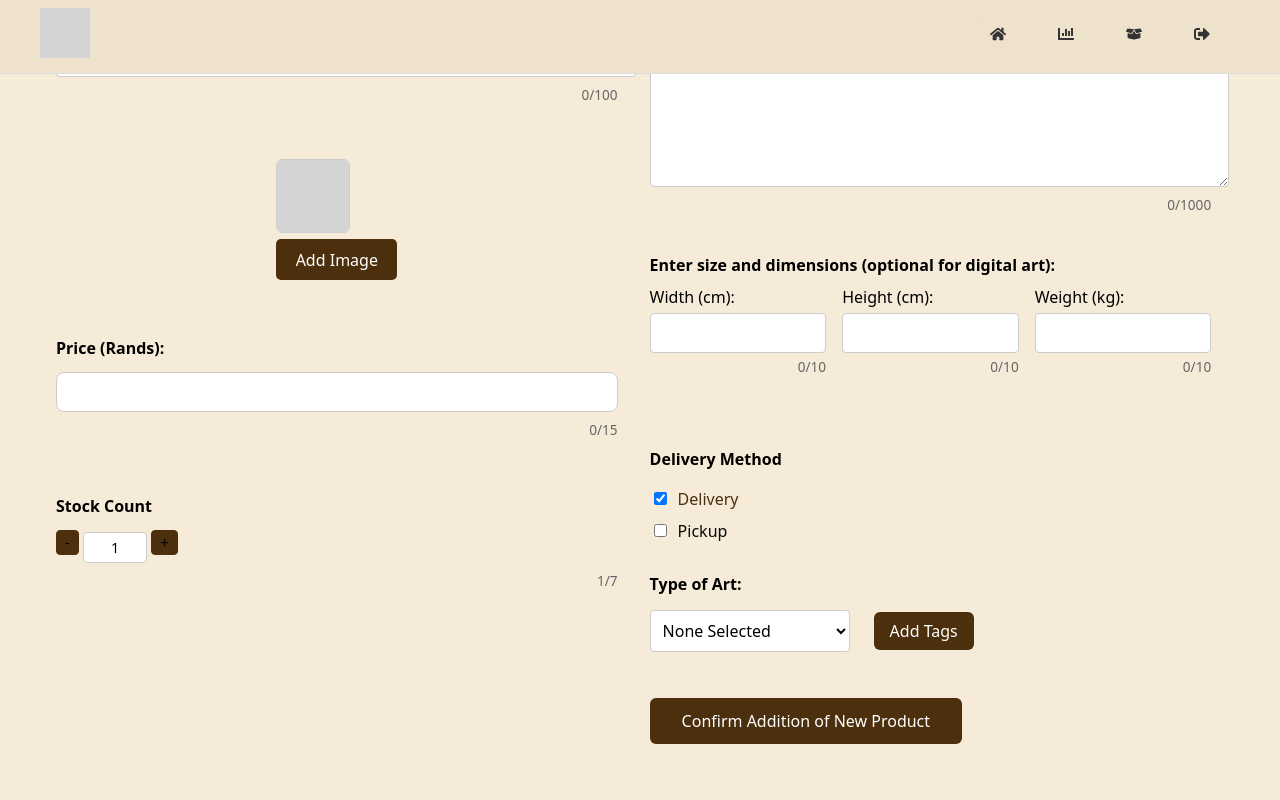
Scenario: AddProductPage Functional Tests › shows validation error popup on missing fields
(page scrolled)
Click the button "Confirm Addition of New Product" at (806, 721), box [650, 698, 962, 744]
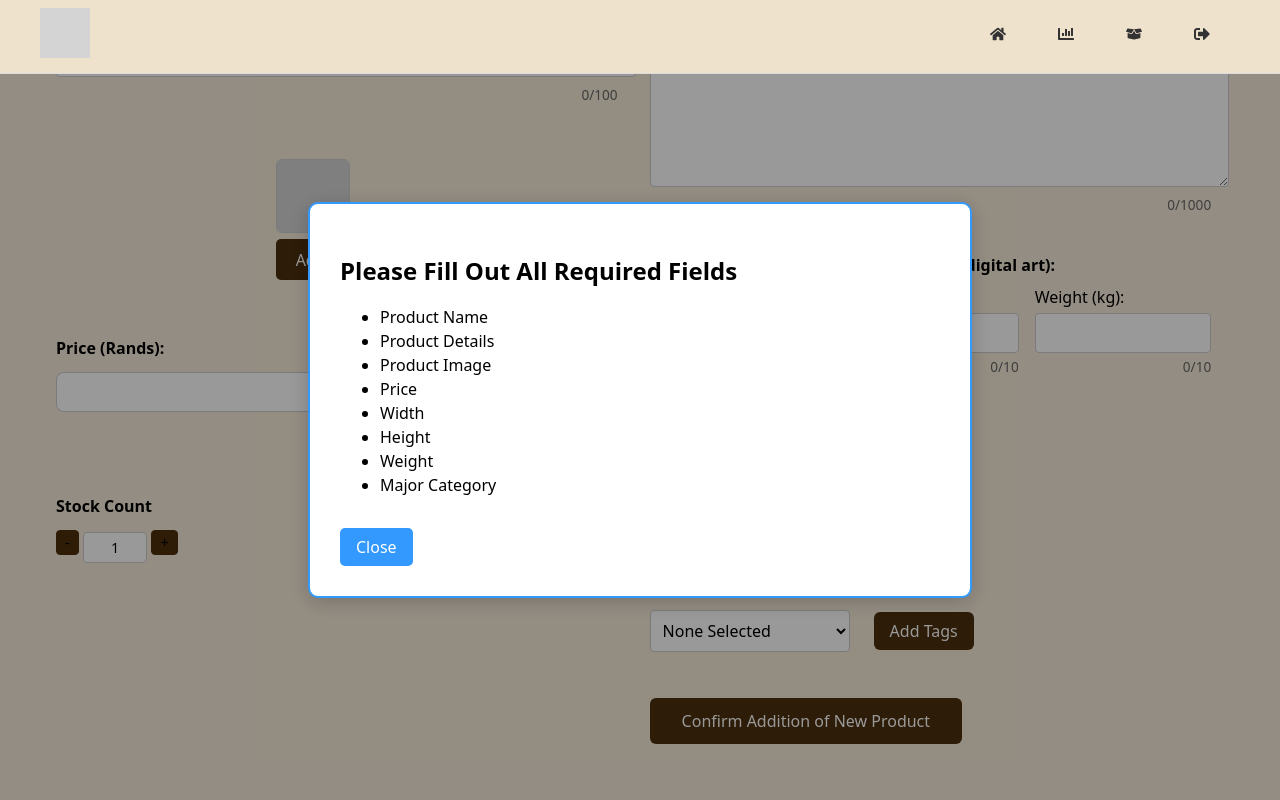
Check: the heading "Please Fill Out All Required Fields" is shown, box [340, 254, 737, 288]
